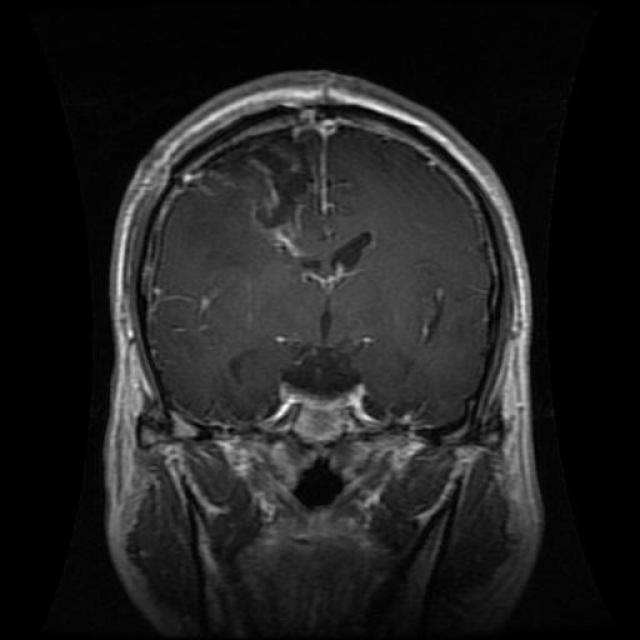Brain-Tumor: (190, 124, 358, 292)
